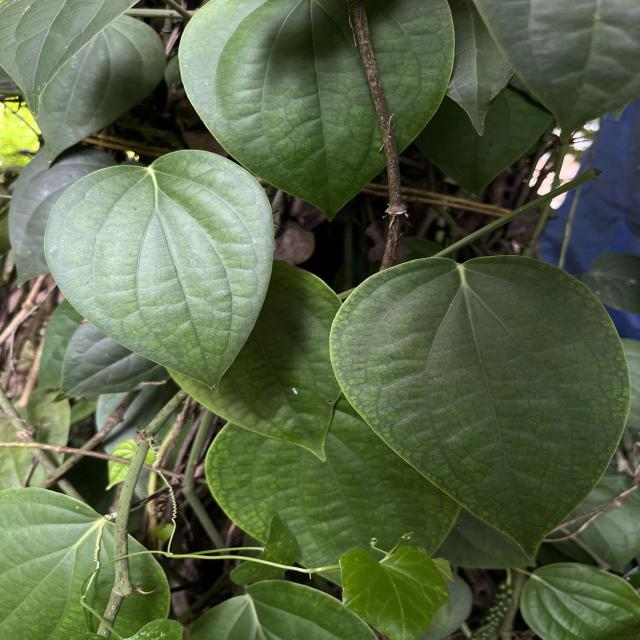Piper nigrum: (328, 252, 634, 562), (42, 148, 276, 396)
